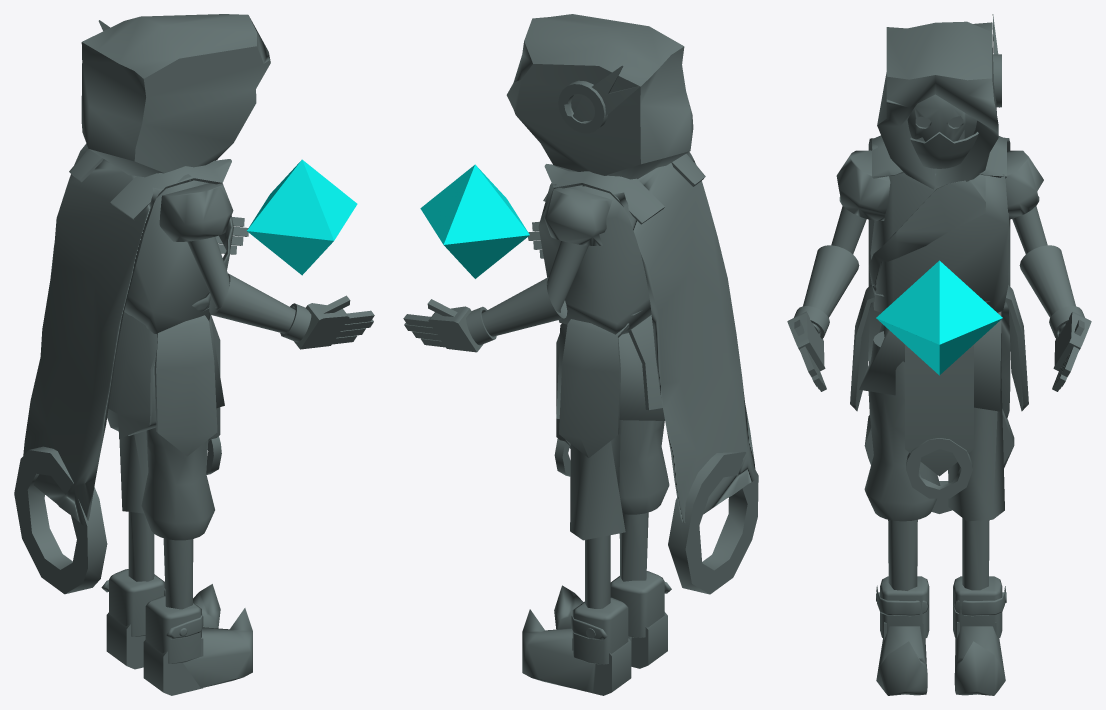
Rendered from asset11statue.fbx.
3 renders of one model, left to right at view 1: azimuth 30°, elevation 25°; view 2: azimuth 150°, elevation 25°; view 3: azimuth 270°, elevation 25°, orthographic.
Parts seen in each view (by area): view 1: polySurface130; view 2: polySurface130; view 3: polySurface130.
Part boxes in pixels (x1,y1,x2,y2): polySurface130: (14, 14, 374, 695); polySurface130: (403, 14, 758, 695); polySurface130: (787, 14, 1091, 695).
Bounding box in the file's own units: 2.76 × 5.57 × 2.39.
